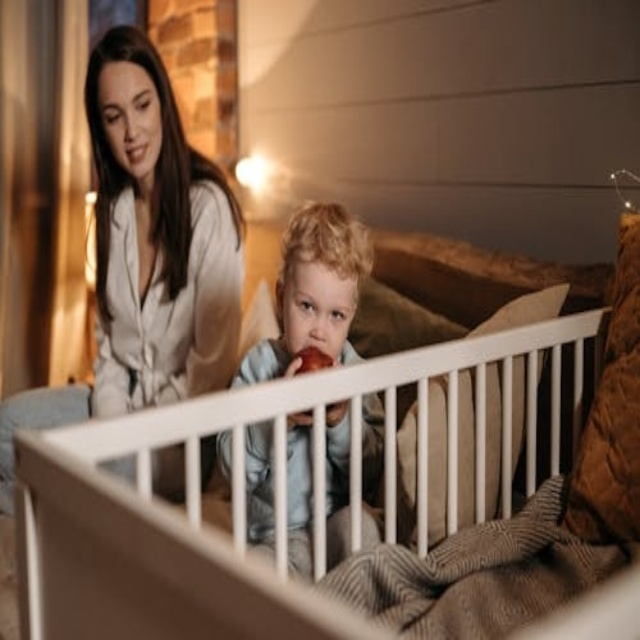Sin_gafas: (294, 286, 352, 333), (100, 80, 155, 126)
Sin_mascara: (119, 134, 151, 180)
